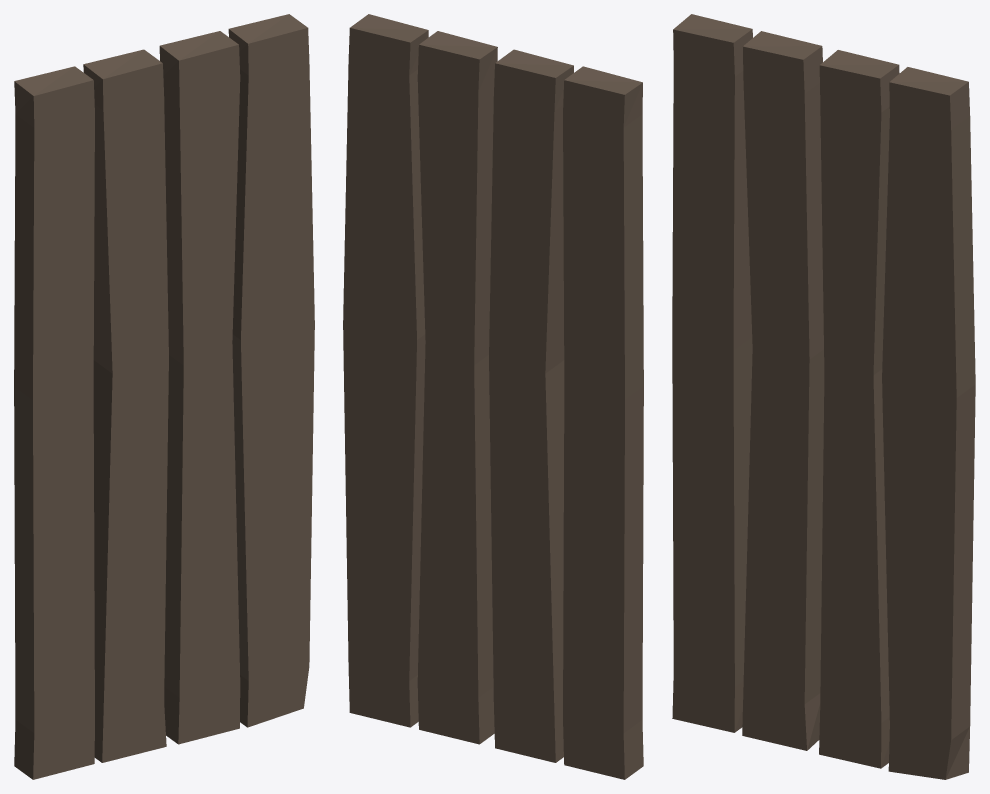
File: SM_Bld_HutDoor_01.fbx
3 renders of one model, left to right at view 1: azimuth 30°, elevation 25°; view 2: azimuth 150°, elevation 25°; view 3: azimuth 330°, elevation 25°, orthographic.
Visible parts, largest first — view 1: SM_Bld_HutDoor_01; view 2: SM_Bld_HutDoor_01; view 3: SM_Bld_HutDoor_01.
Boxes of the visible parts, x1,y1,x2,y2 form: SM_Bld_HutDoor_01: (14, 14, 314, 779); SM_Bld_HutDoor_01: (343, 14, 643, 779); SM_Bld_HutDoor_01: (672, 14, 975, 779).
Bounding box in the file's own units: 0.00824 × 0.0191 × 0.000954.
1 material, 1 textured.
